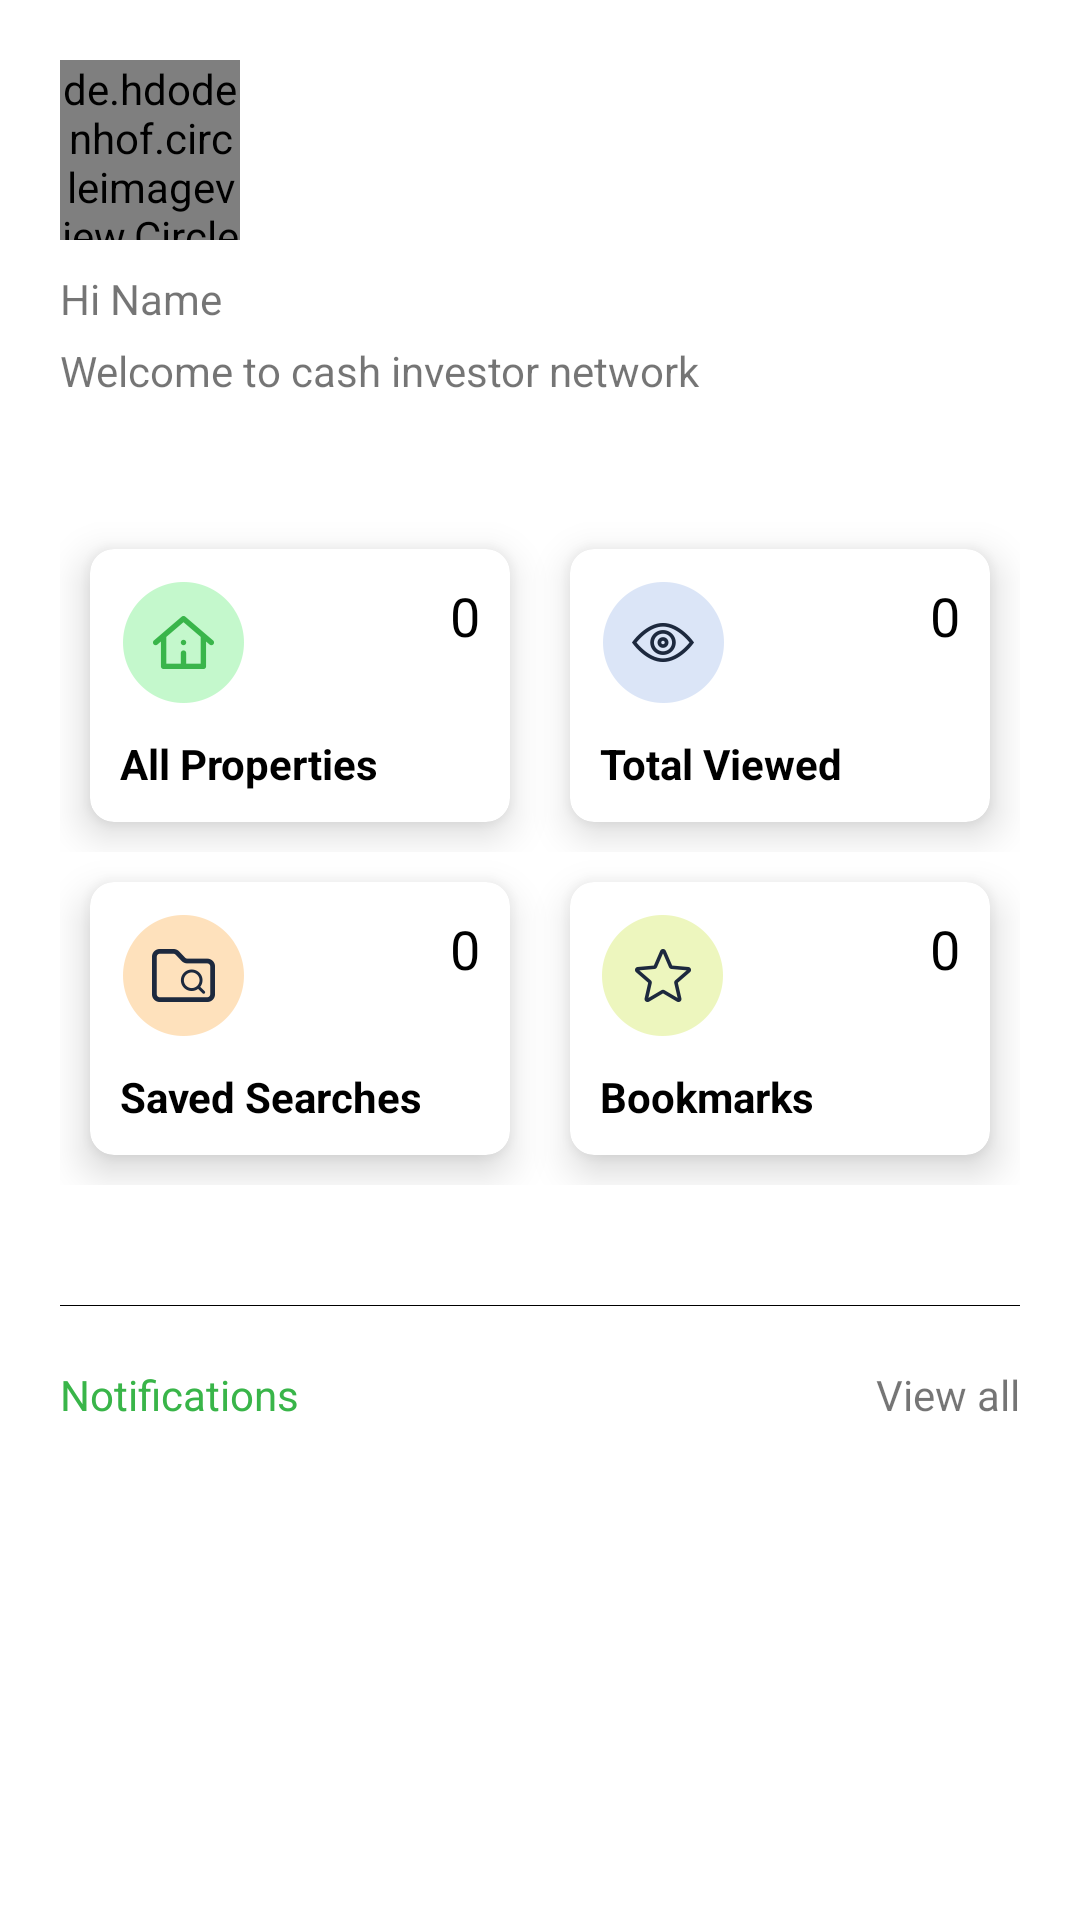

Screen size 1080w x 1920h. Icon name, then its box in pixels as (x1, y1, x2, y2):
allproperty home: (123, 582, 244, 703)
bookmark home: (602, 915, 723, 1036)
totalview home: (603, 582, 724, 703)
